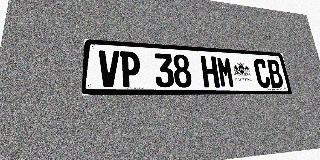3: (154, 53, 174, 87)
8: (172, 54, 192, 87)
B: (266, 59, 284, 88)
C: (253, 59, 271, 88)
H: (200, 56, 220, 88)
M: (216, 57, 235, 88)
P: (120, 51, 140, 87)
V: (98, 50, 119, 87)
